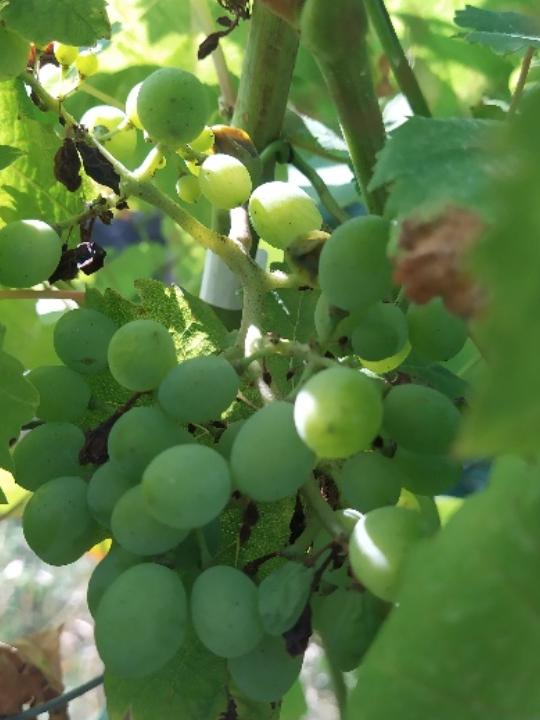grape: (0, 66, 470, 708)
